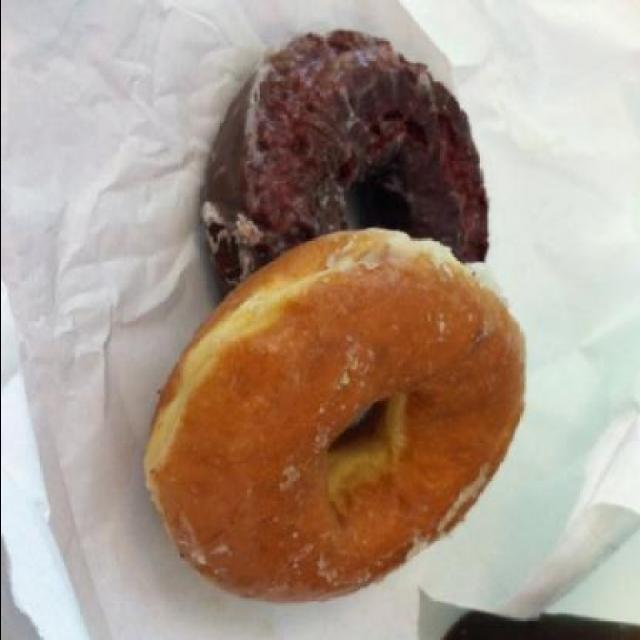Donuts: (65, 46, 537, 624)
